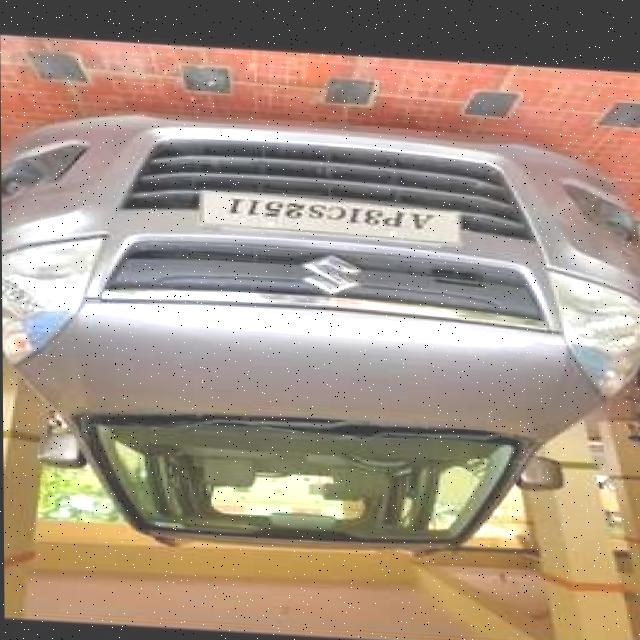plate: (200, 189, 462, 241)
